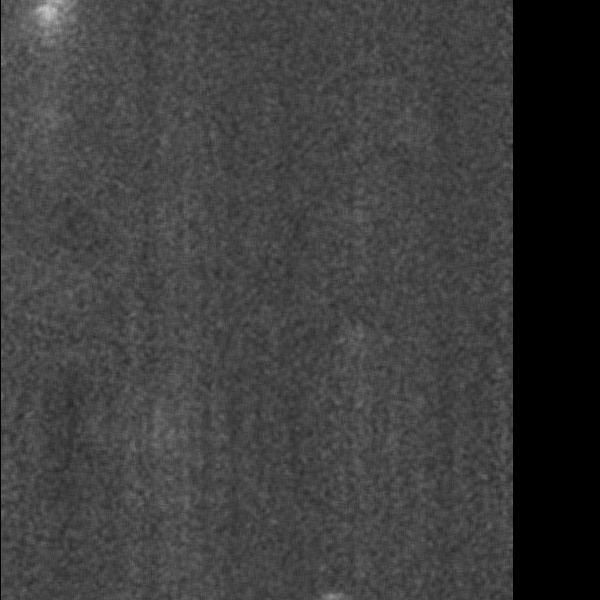spark: (303, 465, 358, 513), (300, 292, 358, 336)
